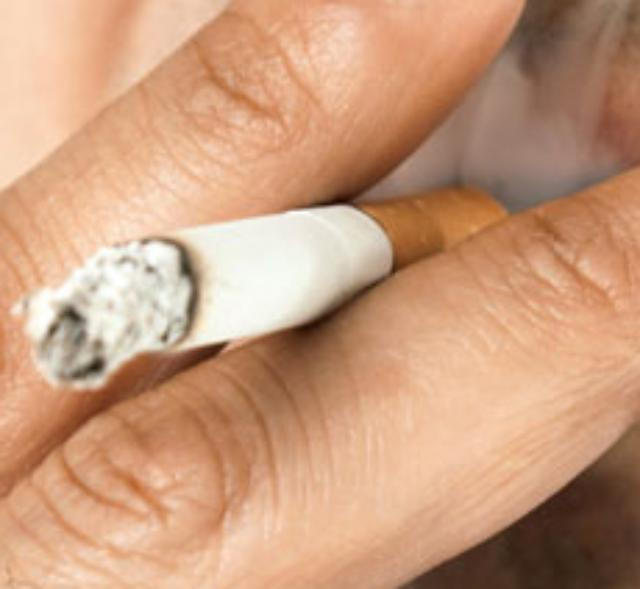Smoking: (23, 186, 513, 393)
